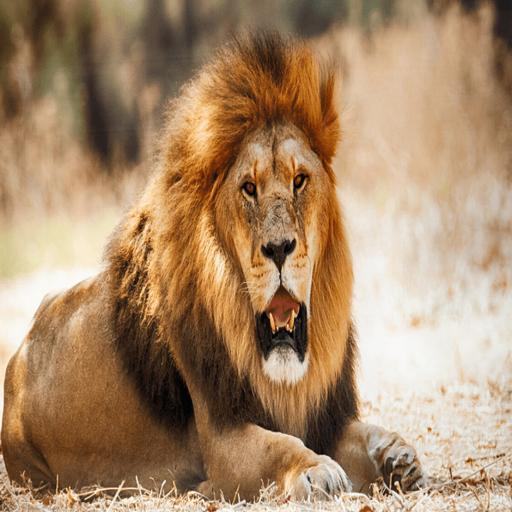Lion: (0, 28, 430, 508)
